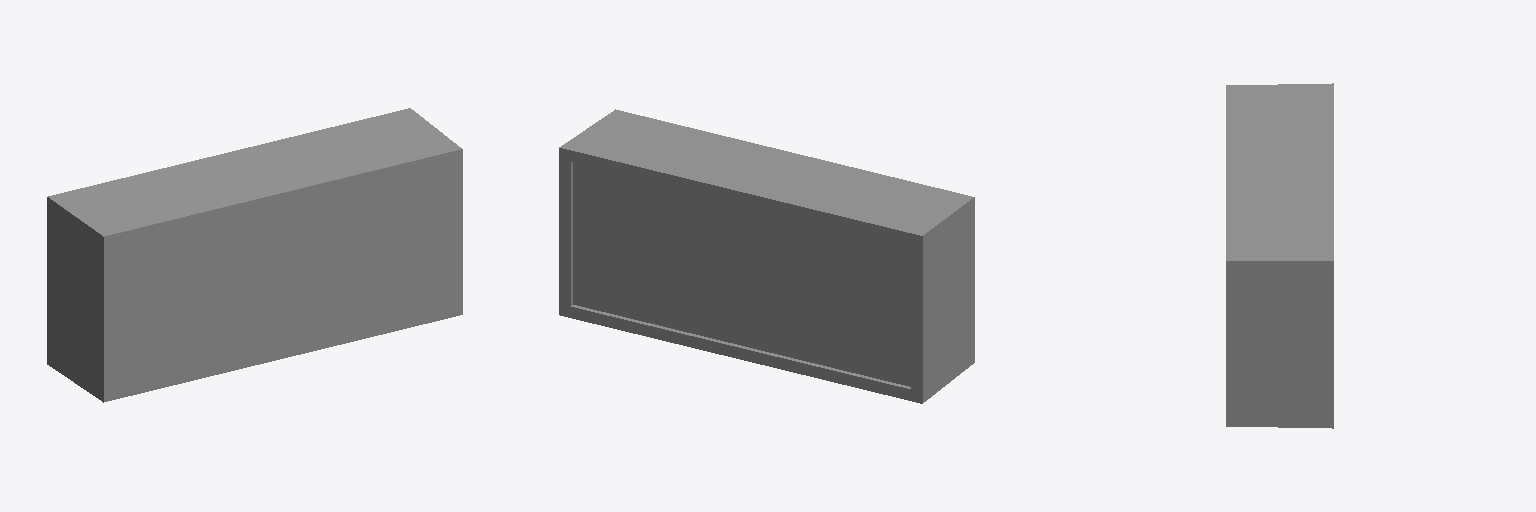
The model's file is lampe.obj.
The picture shows the model from 3 angles: view 1: azimuth 30°, elevation 25°; view 2: azimuth 150°, elevation 25°; view 3: azimuth 270°, elevation 25°; orthographic projection.
Parts seen in each view (by area): view 1: Cube; view 2: Plane, Cube; view 3: Cube.
Boxes of the visible parts, box(x1,y1,x2,y2) form: Cube: box(47, 108, 462, 402); Plane: box(573, 163, 910, 386); Cube: box(559, 109, 974, 403); Cube: box(1226, 83, 1333, 428).
Bounding box in the file's own units: 4.91 × 2.17 × 1.27.